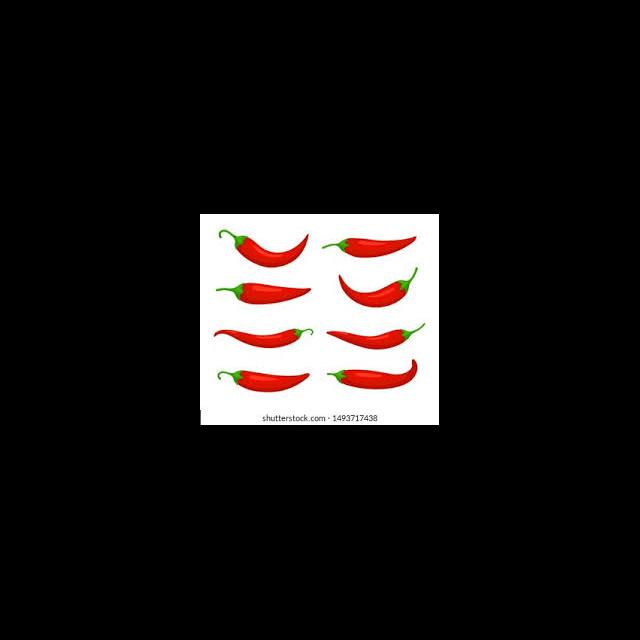chili_pepper: (336, 270, 419, 308), (222, 234, 310, 268), (326, 360, 419, 390), (326, 326, 426, 352), (214, 326, 314, 348), (324, 235, 418, 258), (222, 368, 312, 392), (232, 282, 314, 306)
